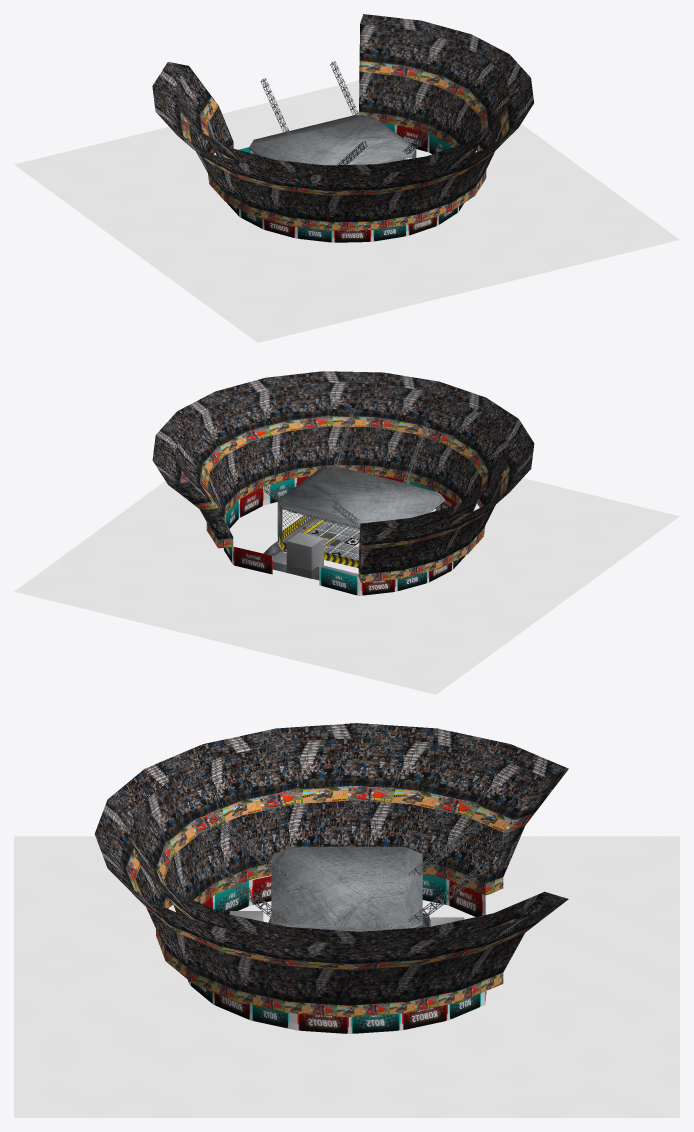
File: BattleBots Environment .fbx
The picture shows the model from 3 angles, top to bottom: view 1: azimuth 30°, elevation 25°; view 2: azimuth 150°, elevation 25°; view 3: azimuth 270°, elevation 25°; orthographic projection. The views are drawn at different scales.
Parts seen in each view (by area): view 1: Plane, polySurface134_Mesh.008, Cube.001_Cube.003, roofarena:pCube7_Mesh.001; view 2: Plane, polySurface134_Mesh.008, Cube.001_Cube.003, SketchUp.001_ID48.002, roofarena:pCube7_Mesh.001; view 3: Plane, polySurface134_Mesh.008, Cube.001_Cube.003, roofarena:pCube7_Mesh.001.
Part boxes in pixels (box(x1,y1,x2,y2)): Plane: box(14, 80, 679, 342); polySurface134_Mesh.008: box(152, 14, 533, 242); Cube.001_Cube.003: box(249, 115, 416, 165); roofarena:pCube7_Mesh.001: box(260, 61, 437, 165); Plane: box(14, 478, 679, 694); polySurface134_Mesh.008: box(152, 371, 534, 595); Cube.001_Cube.003: box(263, 467, 444, 580); SketchUp.001_ID48.002: box(266, 532, 323, 578); roofarena:pCube7_Mesh.001: box(261, 408, 429, 528); Plane: box(14, 836, 679, 1117); polySurface134_Mesh.008: box(94, 723, 568, 1033); Cube.001_Cube.003: box(268, 846, 430, 931); roofarena:pCube7_Mesh.001: box(209, 813, 483, 922).
Size of the model in its own units: 216038 by 51530 by 216038.
Materials: 4 (3 with a texture image).
